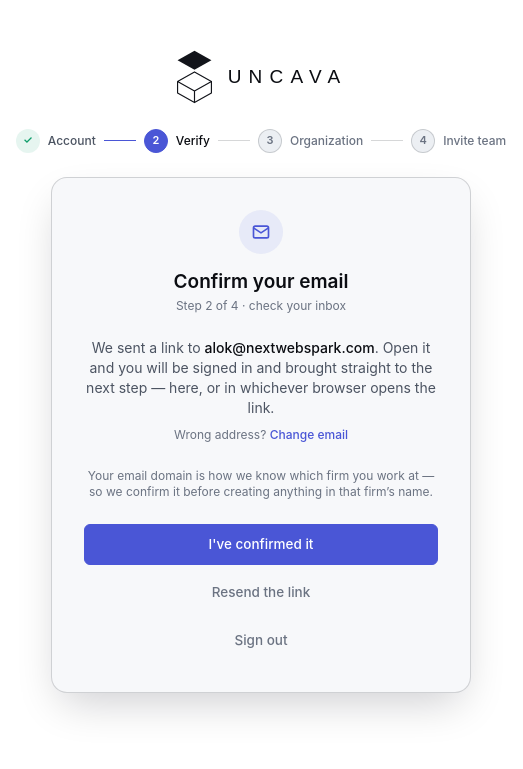
SignupVerifyStepPage › says so when the resend fails, and lets it be tried again
Check: the text "alok@nextwebspark.com" is shown, box left=204, top=338, right=375, bottom=356
Click the button "Resend the link". click: (261,593)
box: left=84, top=573, right=438, bottom=613
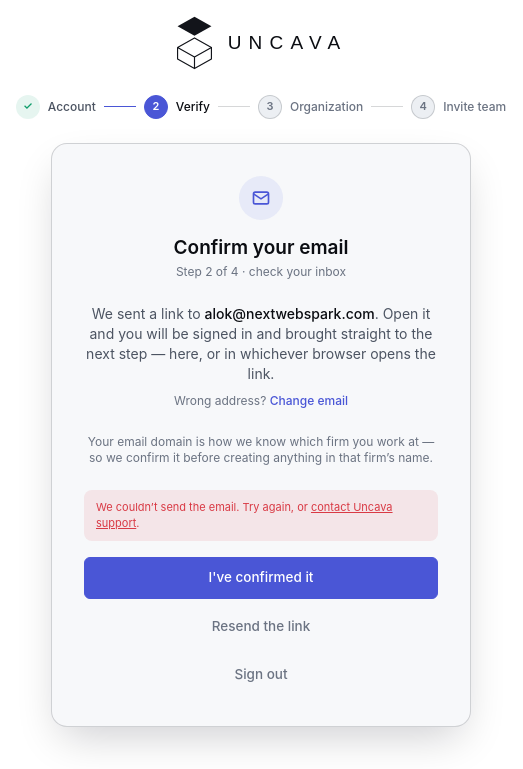
Check: the button "Resend the link" is enabled, box left=84, top=607, right=438, bottom=647
Check: the message shows "We couldn’t send the email", box left=96, top=500, right=308, bottom=514
